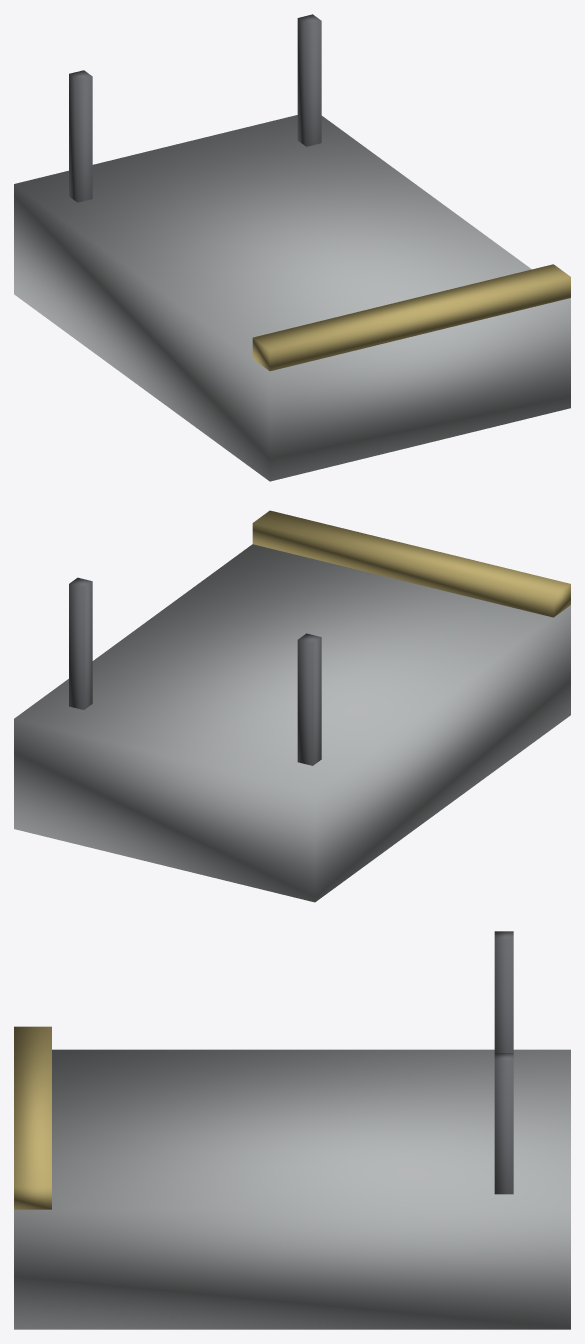
Rendered from loading_dock_14.glb.
The picture shows the model from 3 angles, top to bottom: view 1: azimuth 30°, elevation 25°; view 2: azimuth 150°, elevation 25°; view 3: azimuth 270°, elevation 25°; orthographic projection. The views are drawn at different scales.
Parts seen in each view (by area): view 1: world; view 2: world; view 3: world.
Boxes of the visible parts, left/top/right/bottom form: world: left=14, top=14, right=570, bottom=481; world: left=14, top=510, right=570, bottom=902; world: left=14, top=931, right=570, bottom=1329.
Size of the model in its own units: 1.8 by 1.33 by 2.65.
